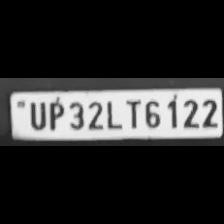1: (162, 97, 180, 129)
2: (178, 96, 200, 130), (84, 98, 104, 130), (198, 97, 218, 129)
3: (65, 98, 84, 130)
6: (140, 97, 162, 129)
L: (104, 98, 122, 130)
P: (45, 99, 65, 131)
T: (122, 97, 140, 129)
U: (26, 98, 46, 130)
